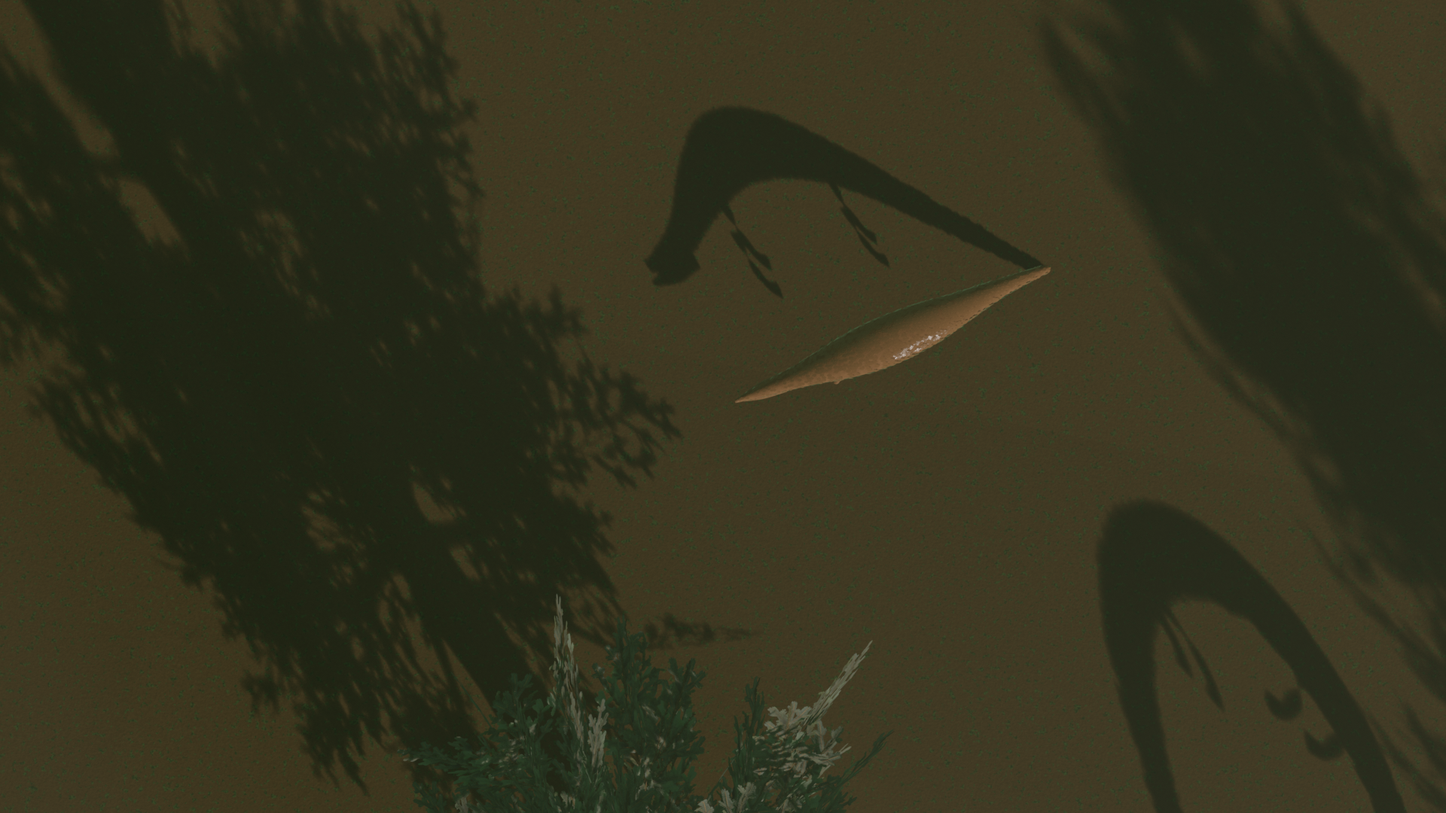pangolin: (731, 228, 1127, 421)
